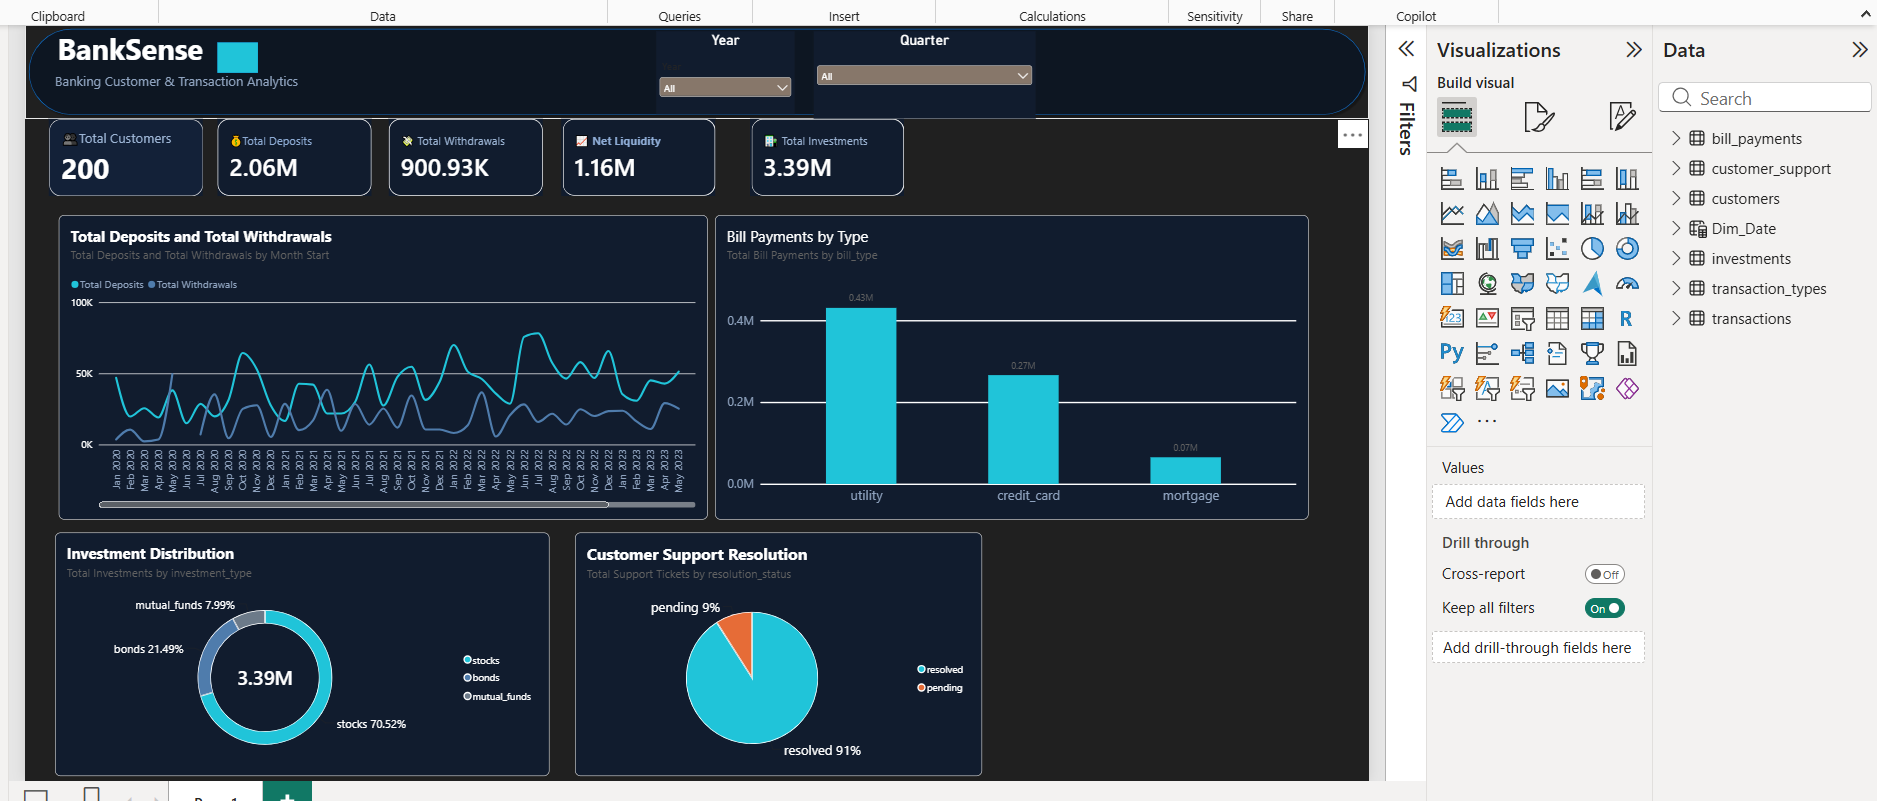

The page's visual inventory and layout, read from the dashboard file:
{"tool":"powerbi","page":{"name":"Page 1","canvas":[1920,1080],"ordinal":0},"visuals":[{"type":"shape","box":[0,0,1920.4,133.8],"z":0},{"type":"textbox","title":"Banking Customer & Transaction Analytics","box":[43.2,67.9,419.9,37],"z":1},{"type":"shape","box":[275.8,24.7,57.6,43.2],"z":2},{"type":"cardVisual","fields":{"Data":["Dim_Date.Total Customers"]},"box":[33.7,134.8,220,110],"z":3},{"type":"cardVisual","fields":{"Data":["Dim_Date.Total Deposits"]},"box":[275,134.2,220,110],"z":4},{"type":"cardVisual","fields":{"Data":["Dim_Date.Total Withdrawals"]},"box":[519.2,134.2,220,110],"z":5},{"type":"cardVisual","fields":{"Data":["Dim_Date.Net Liquidity"]},"box":[765.5,134.2,220,110],"z":6},{"type":"cardVisual","fields":{"Data":["Dim_Date.Total Investments"]},"box":[1036.1,134.2,220,110],"z":7},{"type":"lineChart","title":"Total Deposits and Total Withdrawals","fields":{"Category":["transactions.Month Start"],"Y":["Dim_Date.Total Deposits","Dim_Date.Total Withdrawals"]},"box":[47.9,270.8,927.1,435.4],"z":8},{"type":"clusteredColumnChart","title":"Bill Payments by Type","fields":{"Category":["bill_payments.bill_type"],"Y":["Dim_Date.Total Bill Payments"]},"box":[985.4,270.8,847.9,435.4],"z":9},{"type":"donutChart","title":"Investment Distribution","fields":{"Category":["investments.investment_type"],"Y":["Dim_Date.Total Investments"]},"box":[43.8,725,706.2,347.9],"z":10},{"type":"pieChart","title":"Customer Support Resolution","fields":{"Category":["customer_support.resolution_status"],"Y":["Dim_Date.Total Support Tickets"]},"box":[785.4,725,581.2,347.9],"z":11},{"type":"slicer","title":"Quarter","fields":{"Values":["transactions.Quarter"]},"box":[1127.1,8.3,316.7,125],"z":13},{"type":"slicer","title":"Year","fields":{"Values":["transactions.Year"]},"box":[902.1,8.3,197.9,118.8],"z":14}]}

Visuals, with their boxes in screenshot pixels (x1, y1, x2, y2):
shape: rect(0, 20, 1346, 114)
"Banking Customer & Transaction Analytics" textbox: rect(21, 67, 317, 94)
shape: rect(185, 37, 226, 67)
cardVisual - Dim_Date.Total Customers: rect(14, 115, 169, 192)
cardVisual - Dim_Date.Total Deposits: rect(184, 114, 340, 192)
cardVisual - Dim_Date.Total Withdrawals: rect(357, 114, 512, 192)
cardVisual - Dim_Date.Net Liquidity: rect(531, 114, 686, 192)
cardVisual - Dim_Date.Total Investments: rect(722, 114, 877, 192)
"Total Deposits and Total Withdrawals" lineChart: rect(24, 211, 679, 518)
"Bill Payments by Type" clusteredColumnChart: rect(686, 211, 1285, 518)
"Investment Distribution" donutChart: rect(21, 531, 520, 777)
"Customer Support Resolution" pieChart: rect(545, 531, 955, 777)
"Quarter" slicer: rect(786, 25, 1010, 114)
"Year" slicer: rect(627, 25, 767, 109)
